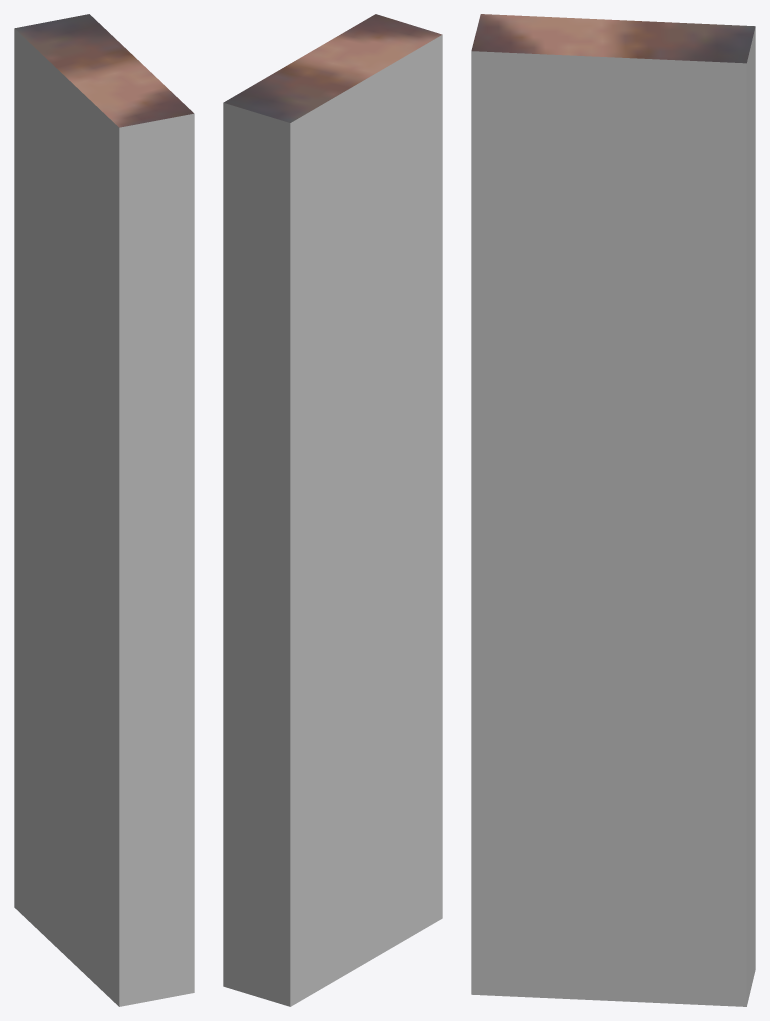
Rendered from DEBW_0010007THZh.gltf.
The picture shows the model from 3 angles, left to right: view 1: azimuth 30°, elevation 25°; view 2: azimuth 150°, elevation 25°; view 3: azimuth 270°, elevation 25°; orthographic projection. The views are drawn at different scales.
Parts seen in each view (by area): view 1: Z_UP; view 2: Z_UP; view 3: Z_UP.
Part boxes in pixels (left/top/right/bottom): Z_UP: left=14, top=14, right=194, bottom=1006; Z_UP: left=223, top=14, right=442, bottom=1006; Z_UP: left=471, top=14, right=755, bottom=1006.
Size of the model in its own units: 1.98 by 17.65 by 4.82.
2 materials, 1 textured.
